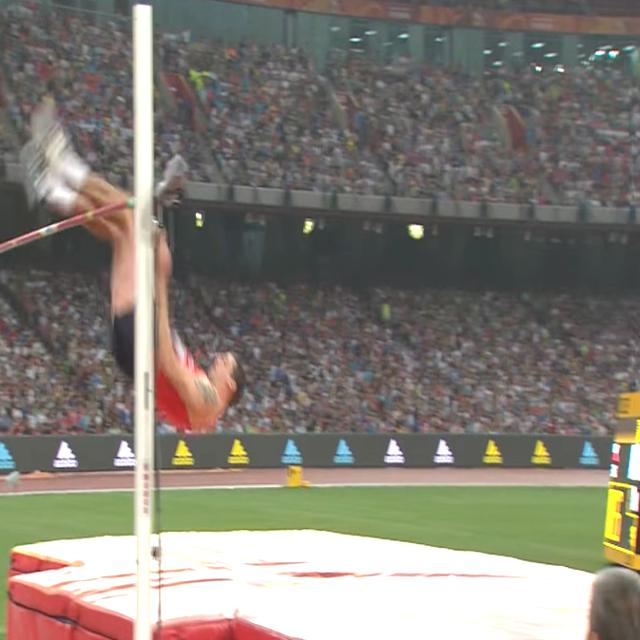land: (21, 90, 244, 433)
